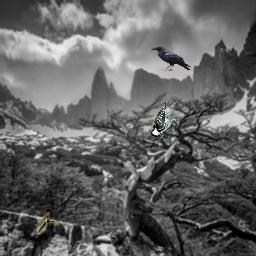Crow: (151, 46, 191, 71)
Swallow: (37, 212, 60, 235)
Woodpecker: (151, 100, 179, 140)
